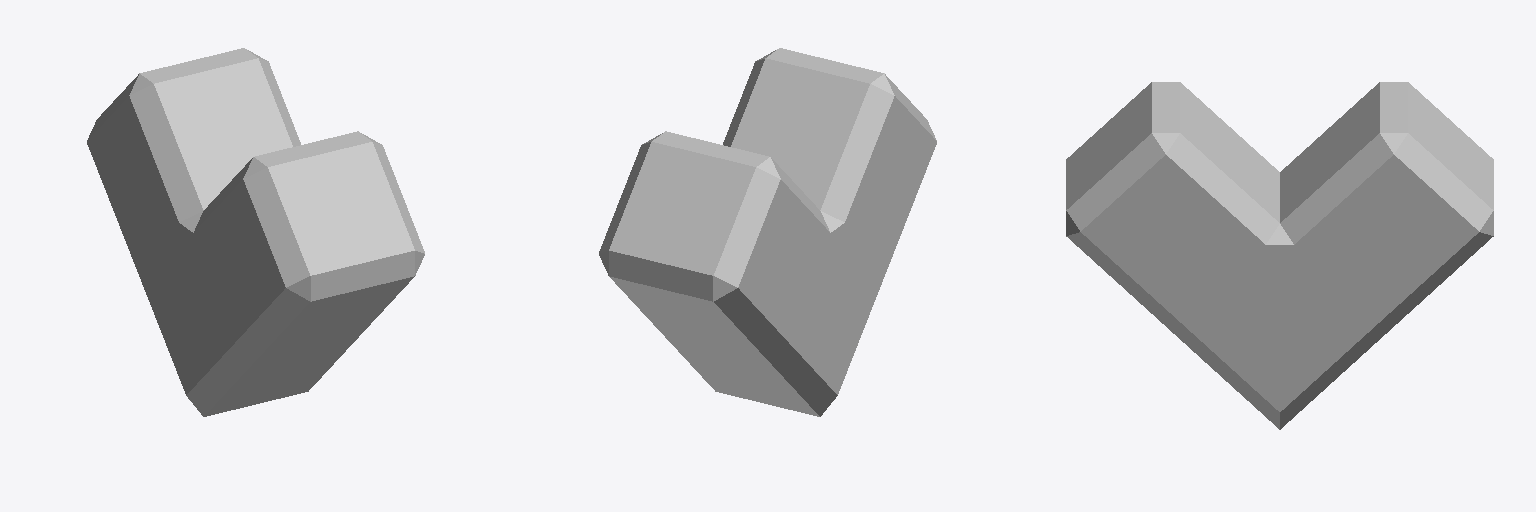
The model's file is heart.obj.
3 views of the same model, side by side, from view 1: azimuth 30°, elevation 25°; view 2: azimuth 150°, elevation 25°; view 3: azimuth 270°, elevation 25° (orthographic).
Visible parts, largest first — view 1: cube; view 2: cube; view 3: cube.
Boxes of the visible parts, <box> form: cube: <box>87,48,424,416</box>; cube: <box>599,48,936,416</box>; cube: <box>1066,82,1493,429</box>.
Bounding box in the file's own units: 0.5 × 1.02 × 1.33.